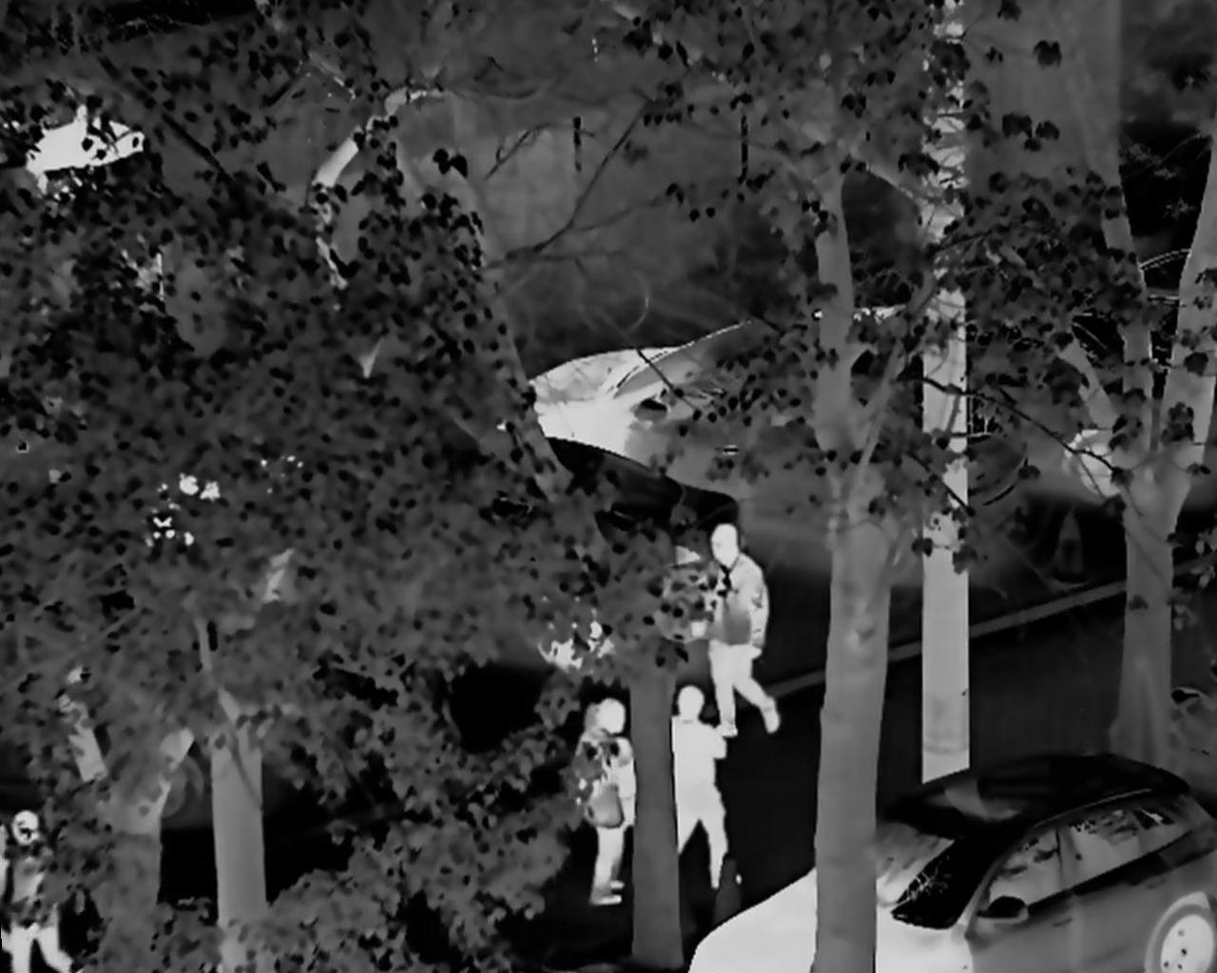person: (696, 518, 783, 745), (661, 676, 740, 895), (564, 691, 642, 904), (7, 813, 83, 973)
